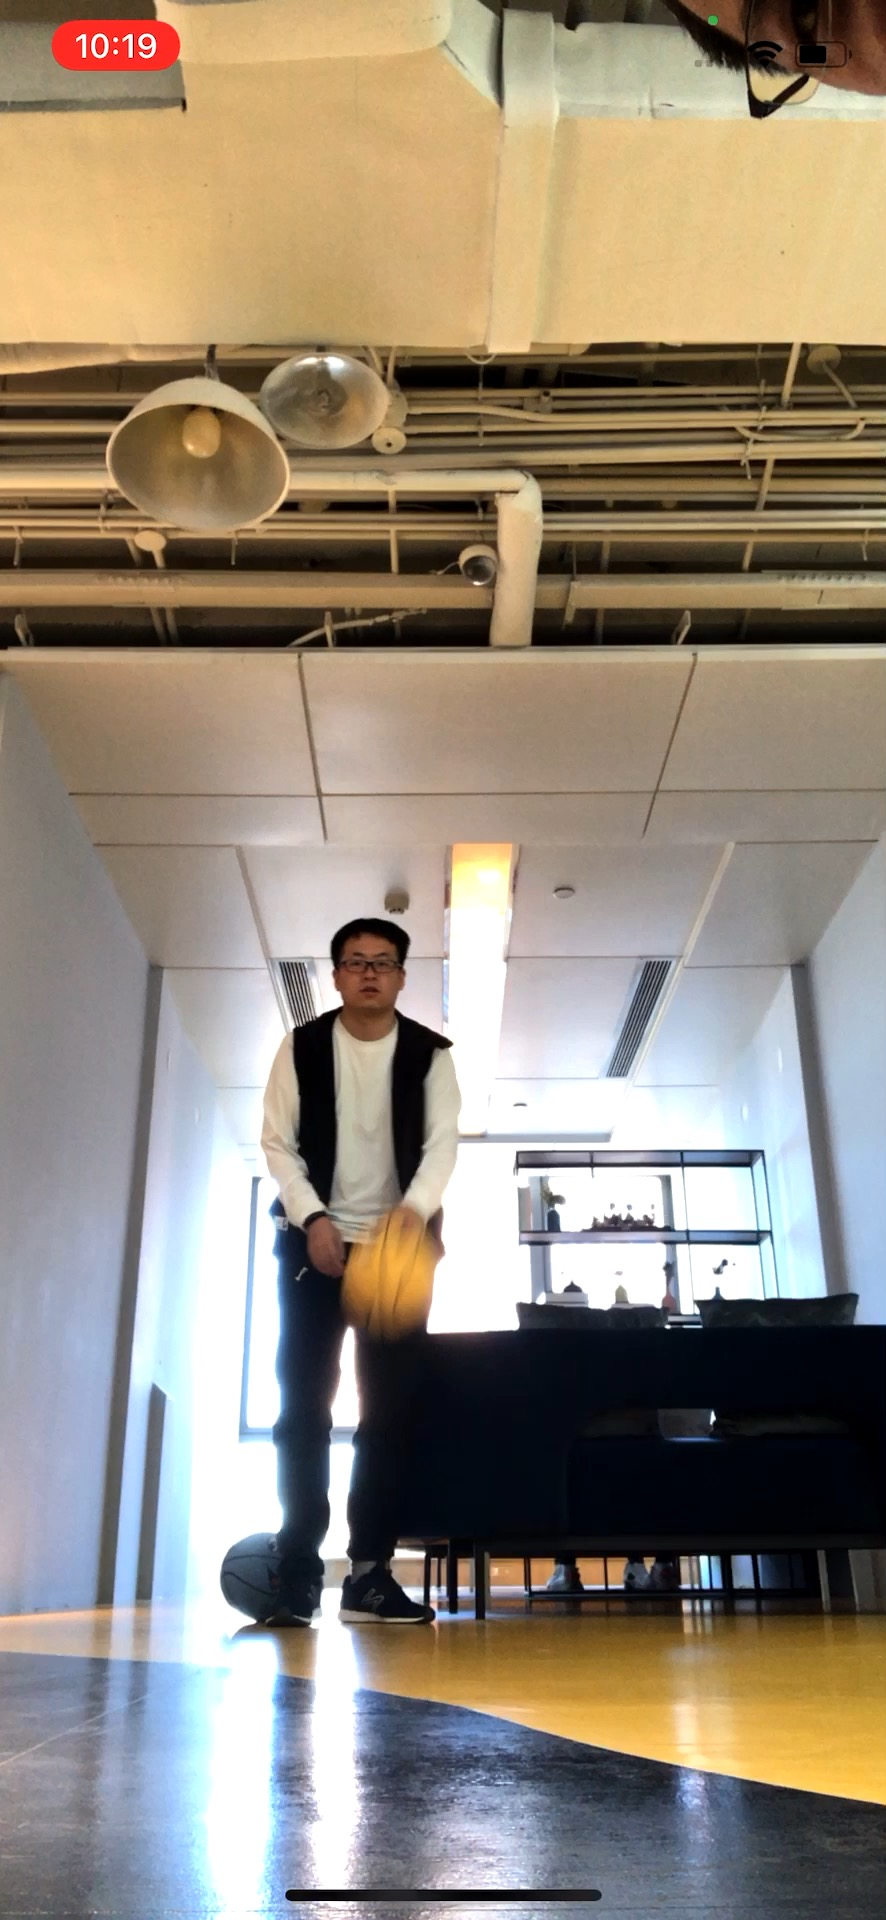ball: (341, 1227, 441, 1335), (223, 1533, 280, 1627)
